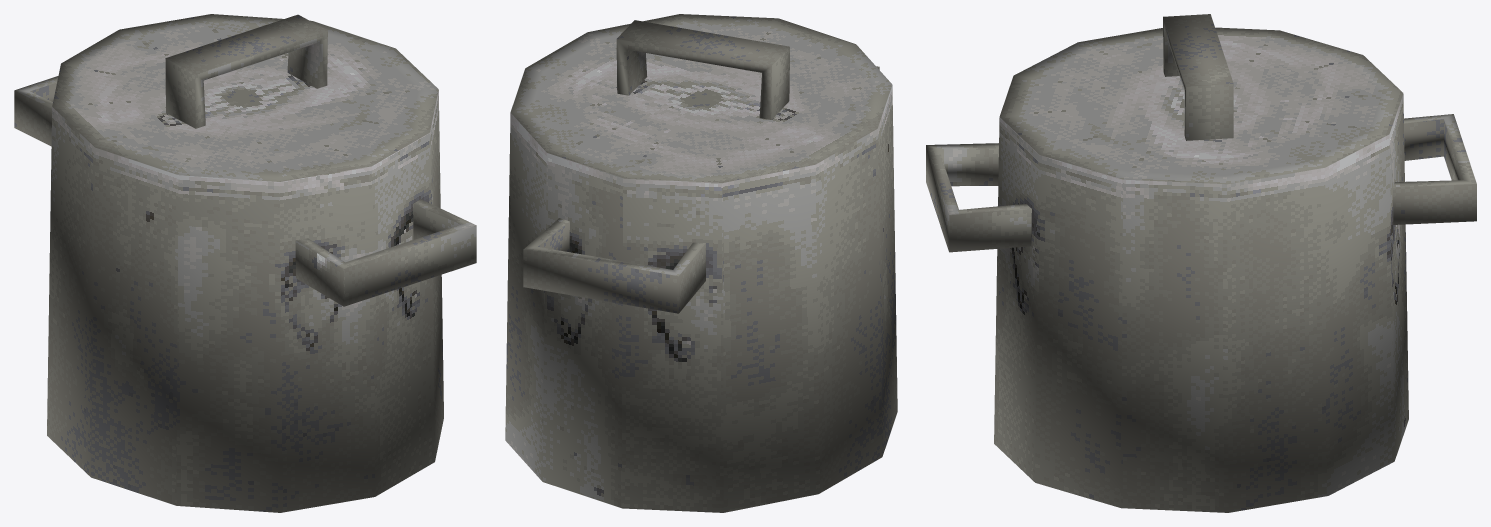
File: cooking pot.glb
The picture shows the model from 3 angles, left to right: view 1: azimuth 30°, elevation 25°; view 2: azimuth 150°, elevation 25°; view 3: azimuth 270°, elevation 25°; orthographic projection.
Visible parts, largest first — view 1: SM_PSX_Stockpot; view 2: SM_PSX_Stockpot; view 3: SM_PSX_Stockpot.
Boxes of the visible parts, x1,y1,x2,y2 form: SM_PSX_Stockpot: [14, 14, 476, 512]; SM_PSX_Stockpot: [505, 14, 897, 512]; SM_PSX_Stockpot: [926, 14, 1476, 512].
Bounding box in the file's own units: 0.5555 × 0.6058 × 0.7938.
1 material, 1 textured.
